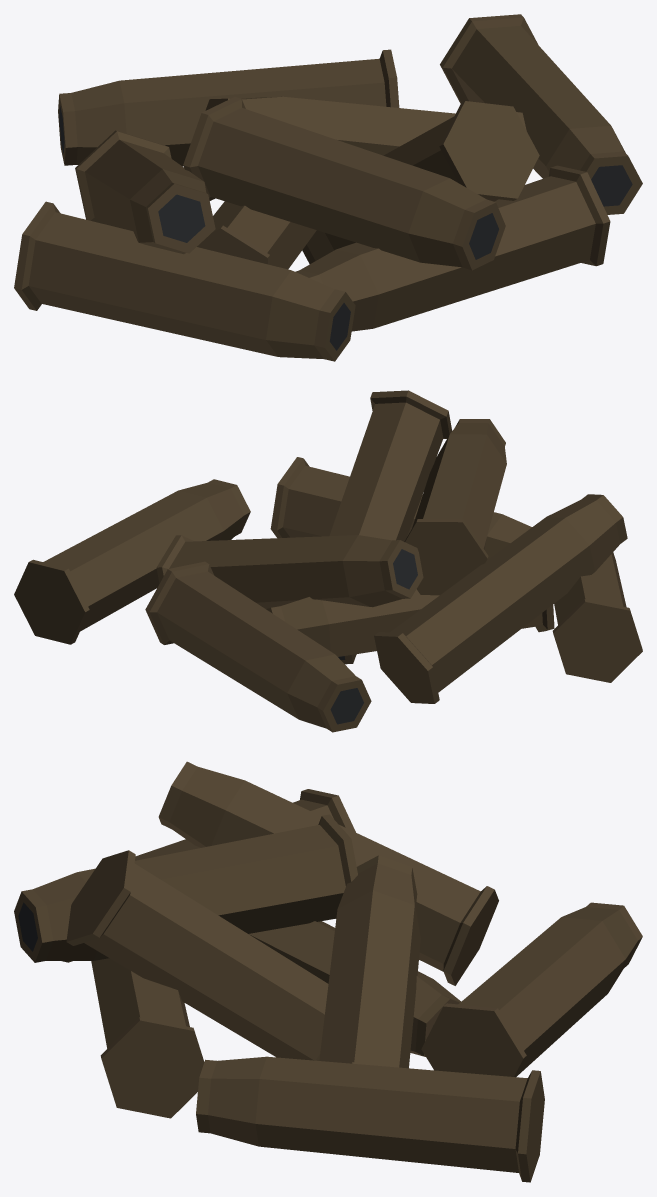
File: SM_Prop_Shell_Pile_02.fbx
3 renders of one model, top to bottom at view 1: azimuth 30°, elevation 25°; view 2: azimuth 150°, elevation 25°; view 3: azimuth 270°, elevation 25°, orthographic. The views are drawn at different scales.
Parts seen in each view (by area): view 1: SM_Prop_Shell_Pile_02; view 2: SM_Prop_Shell_Pile_02; view 3: SM_Prop_Shell_Pile_02.
Part boxes in pixels (x1,y1,x2,y2): SM_Prop_Shell_Pile_02: (14, 14, 642, 361); SM_Prop_Shell_Pile_02: (14, 390, 642, 732); SM_Prop_Shell_Pile_02: (14, 761, 642, 1182).
Size of the model in its own units: 171 by 62.62 by 144.
